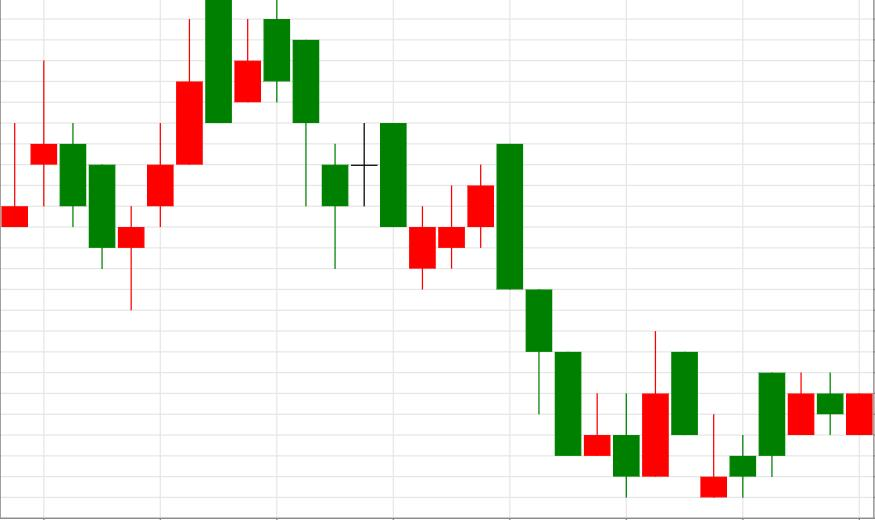three_black_crows_fall: (408, 144, 582, 455)
